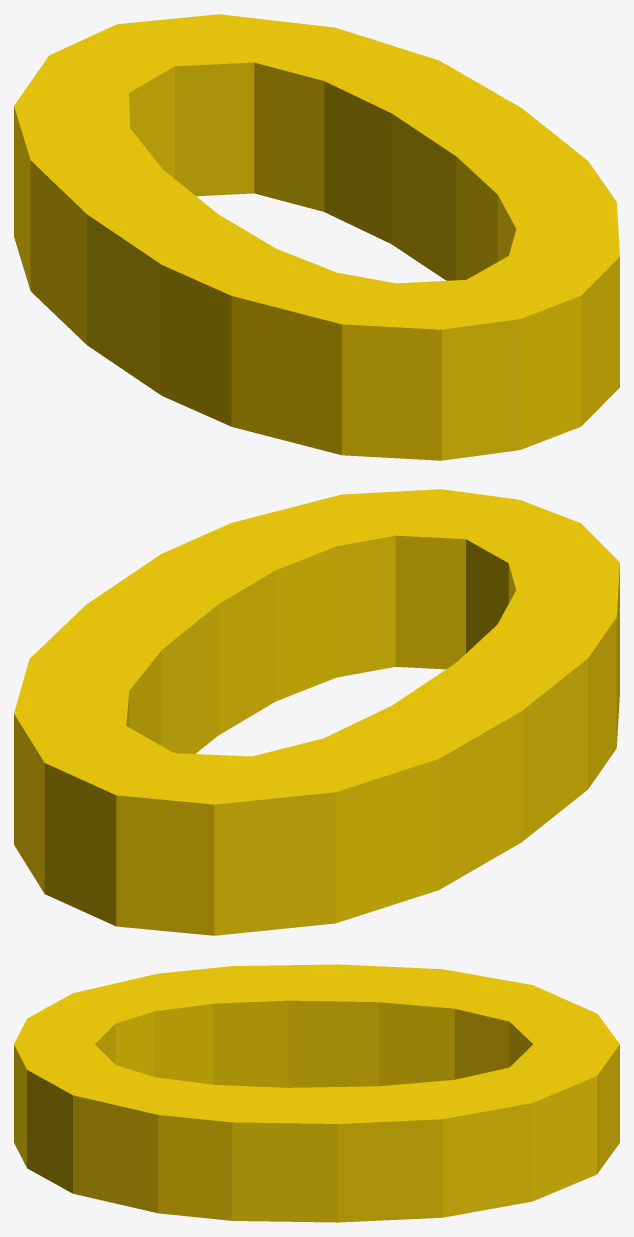
Rendered from zero.glb.
3 renders of one model, top to bottom at view 1: azimuth 30°, elevation 25°; view 2: azimuth 150°, elevation 25°; view 3: azimuth 270°, elevation 25°, orthographic. The views are drawn at different scales.
Parts seen in each view (by area): view 1: Text.020; view 2: Text.020; view 3: Text.020.
Boxes of the visible parts, x1=… form: Text.020: x1=14, y1=14, x2=619, y2=460; Text.020: x1=14, y1=489, x2=619, y2=935; Text.020: x1=14, y1=964, x2=619, y2=1222.
Size of the model in its own units: 0.3475 by 0.1 by 0.5577.
Materials: 1 (1 with a texture image).
